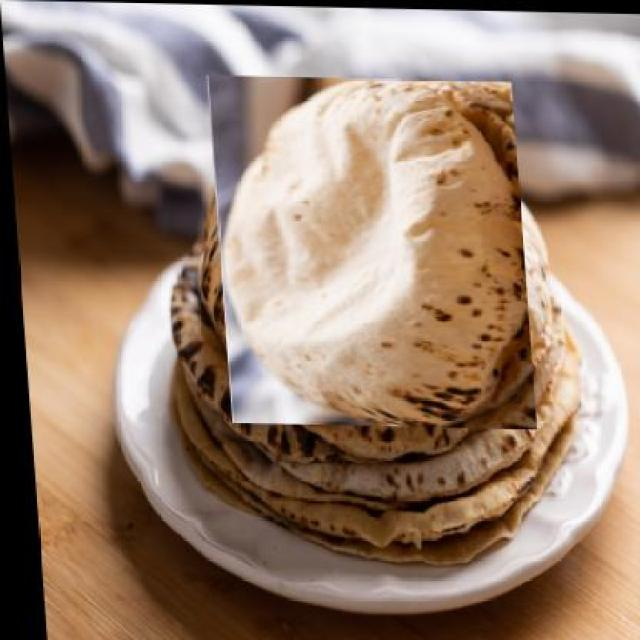chapati: (196, 84, 544, 418)
